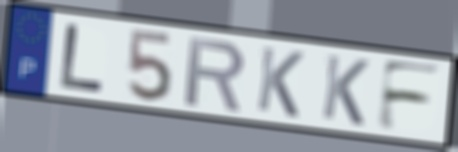5: (124, 26, 175, 103)
F: (373, 57, 446, 134)
K: (253, 43, 307, 121), (319, 52, 372, 129)
L: (57, 21, 108, 95)
R: (181, 34, 249, 114)
